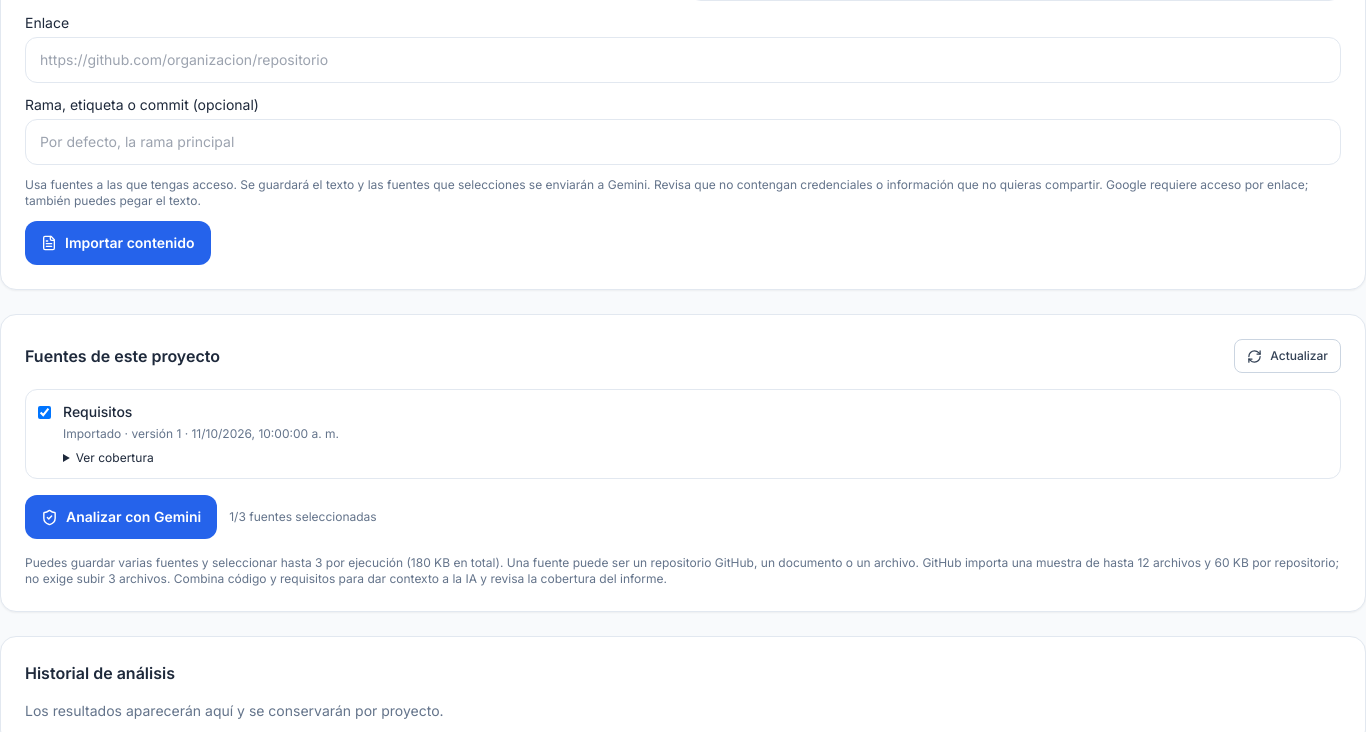
it: módulo de proyectos › envía únicamente versiones seleccionadas del proyecto activo
(page scrolled)
Check: the checkbox named "Analizar Requisitos" is shown, box [38, 406, 51, 419]
Click the button "Analizar con Gemini" at [121, 517], box [25, 495, 217, 539]
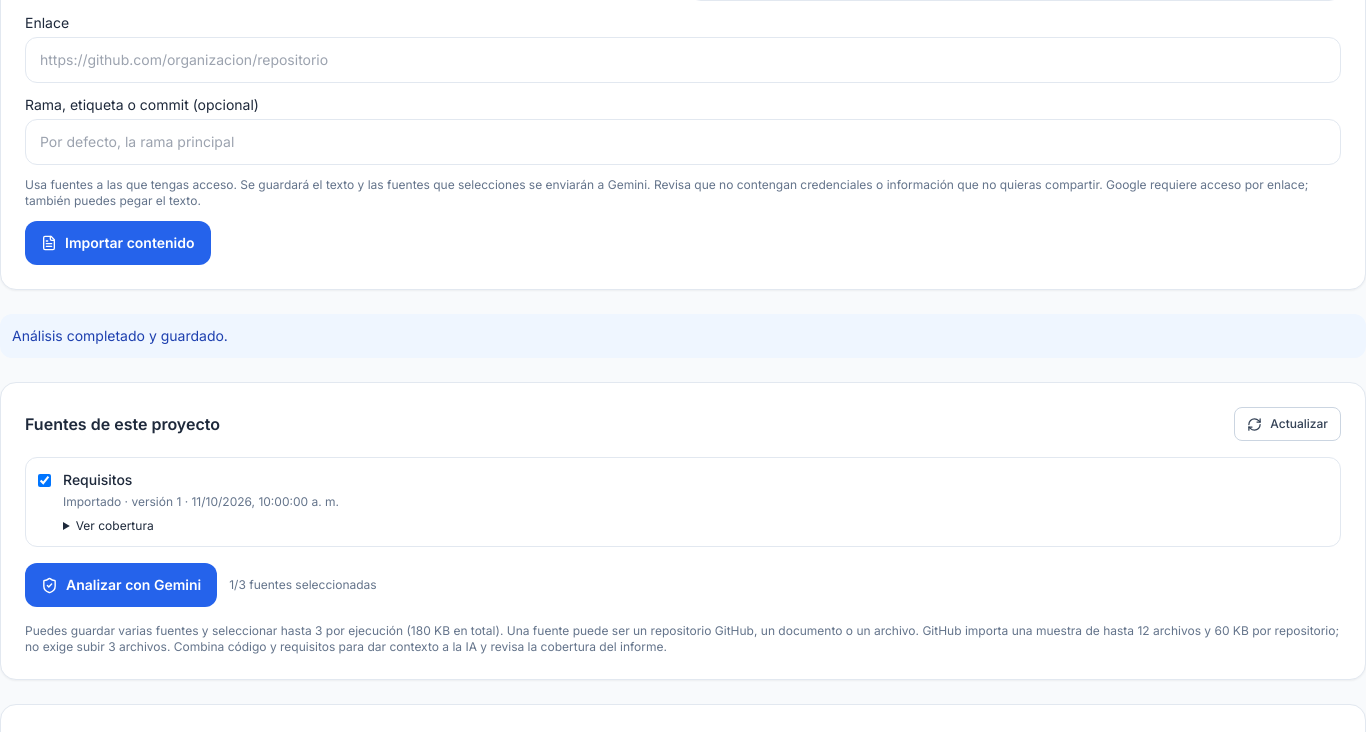
Check: the text "Análisis completado y guardado." is shown, box [0, 314, 1365, 358]
